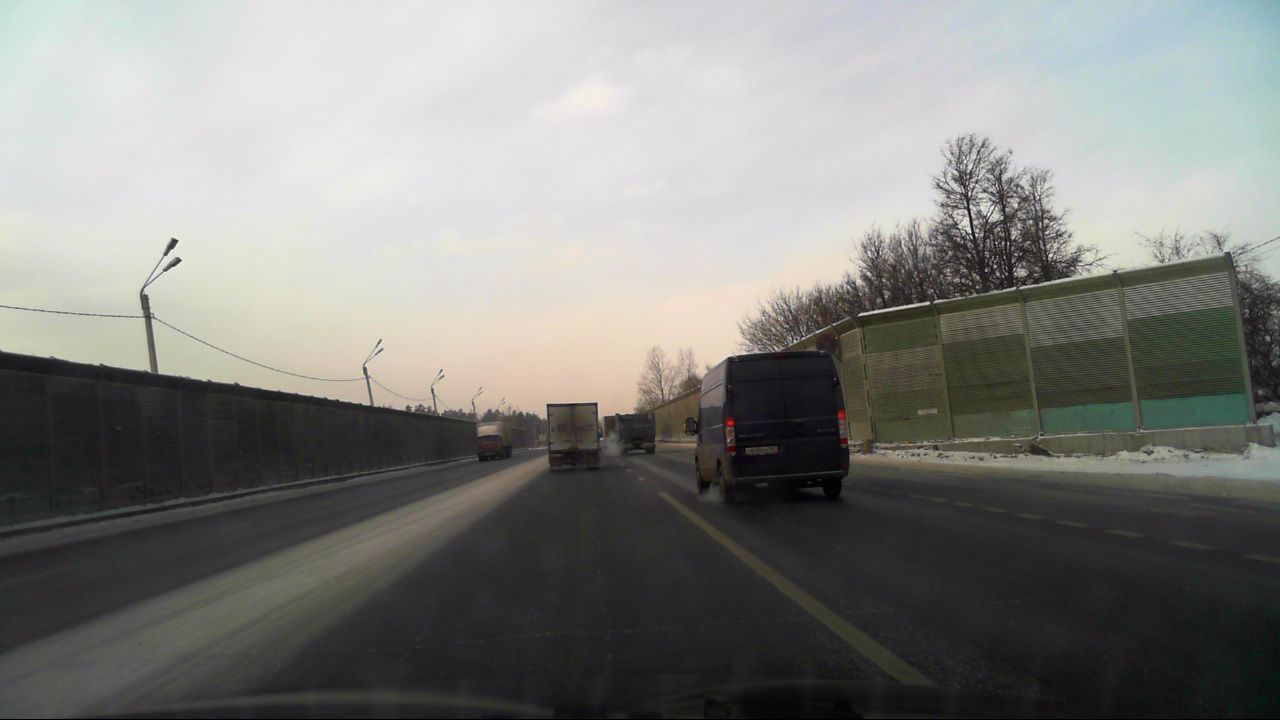No Parking: (816, 334, 838, 355)
